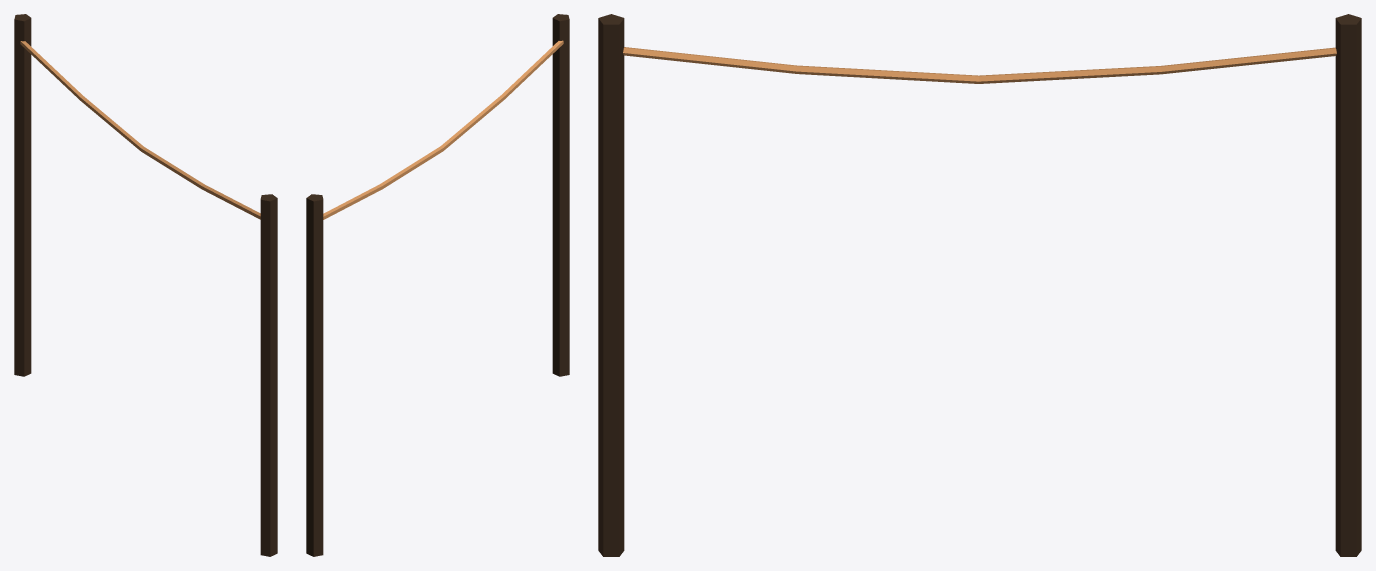
Rendered from rope_mat.fbx.
3 views of the same model, side by side, from view 1: azimuth 30°, elevation 25°; view 2: azimuth 150°, elevation 25°; view 3: azimuth 270°, elevation 25° (orthographic). The views are drawn at different scales.
Parts seen in each view (by area): view 1: rope_mat; view 2: rope_mat; view 3: rope_mat.
Boxes of the visible parts, x1,y1,x2,y2 form: rope_mat: (14, 14, 277, 556); rope_mat: (306, 14, 569, 556); rope_mat: (598, 14, 1361, 556).
Bounding box in the file's own units: 3.36 × 79.38 × 103.
